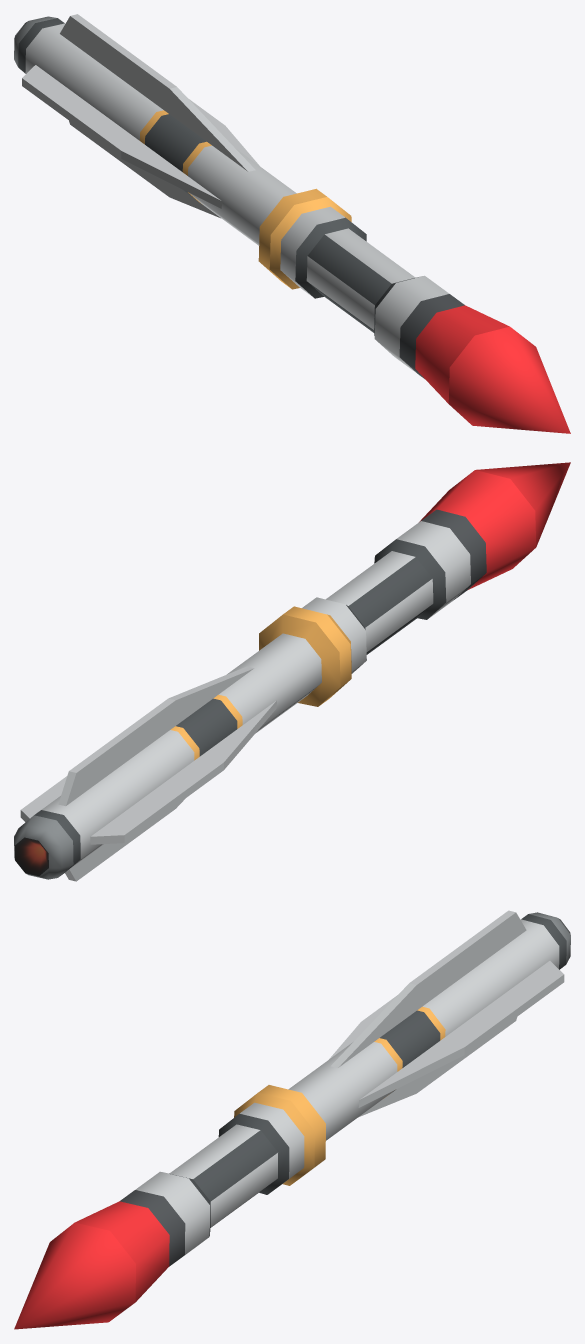
Rendered from Missile_002.fbx.
3 renders of one model, top to bottom at view 1: azimuth 30°, elevation 25°; view 2: azimuth 150°, elevation 25°; view 3: azimuth 330°, elevation 25°, orthographic.
Parts seen in each view (by area): view 1: Missile_002; view 2: Missile_002; view 3: Missile_002.
Part boxes in pixels (x1,y1,x2,y2): Missile_002: (14, 14, 570, 433); Missile_002: (14, 462, 570, 881); Missile_002: (14, 910, 570, 1329).
Bounding box in the file's own units: 13.1 × 118 × 13.1.
